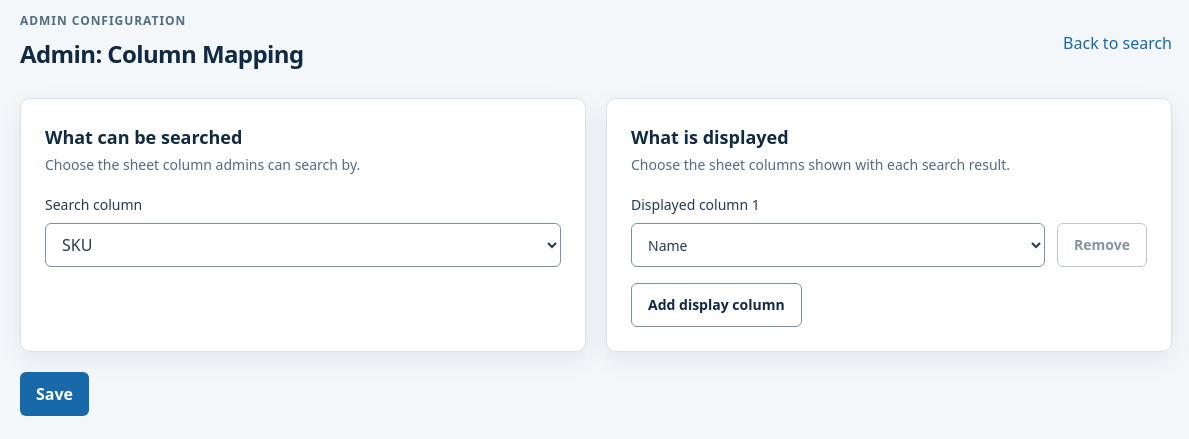
it: AdminPage › shows a safe server validation message when POST fails
Expected: the dropdown labelled "Search column" is shown, [45,223,561,267]
Step 1. Click the button "Save" → (54, 394), box [20,372,89,416]
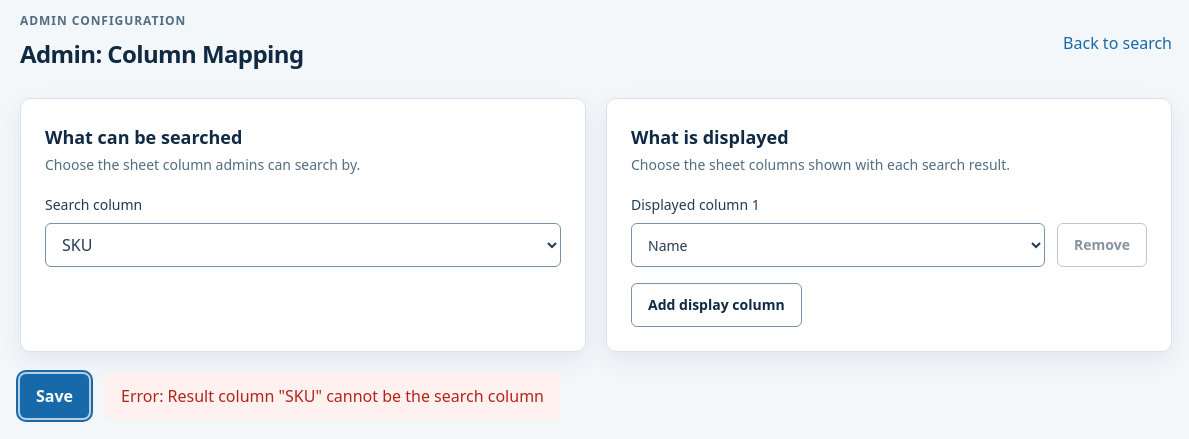
Result: the text "Error: Result column \"SKU\" cannot be the search column" is shown at [105,372,560,420]
